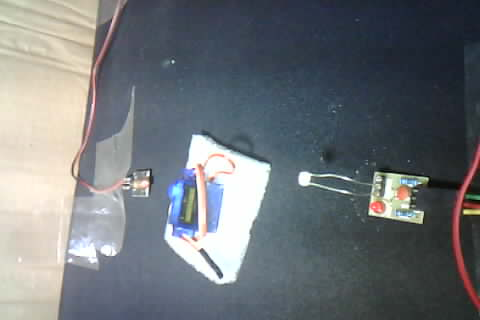motor: (162, 133, 267, 281)
